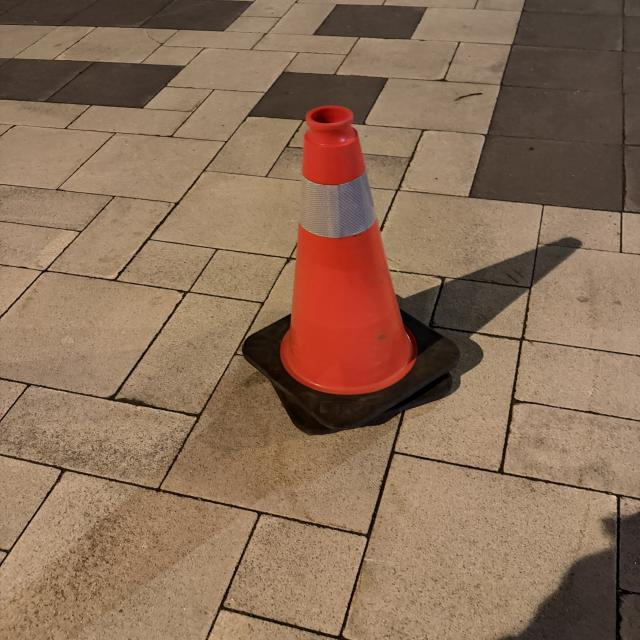Traffic Cone: (236, 102, 460, 430)
